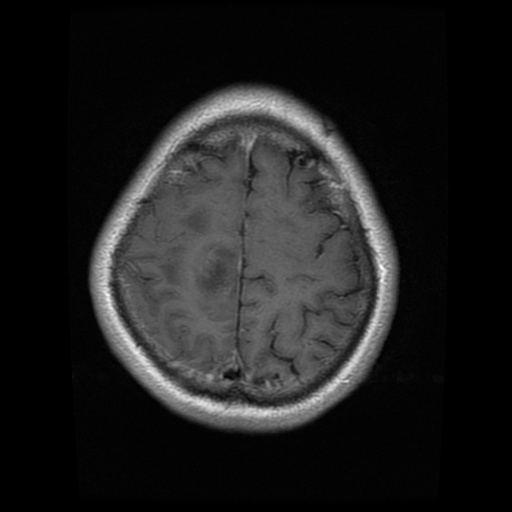glioma: (196, 242, 240, 299)
